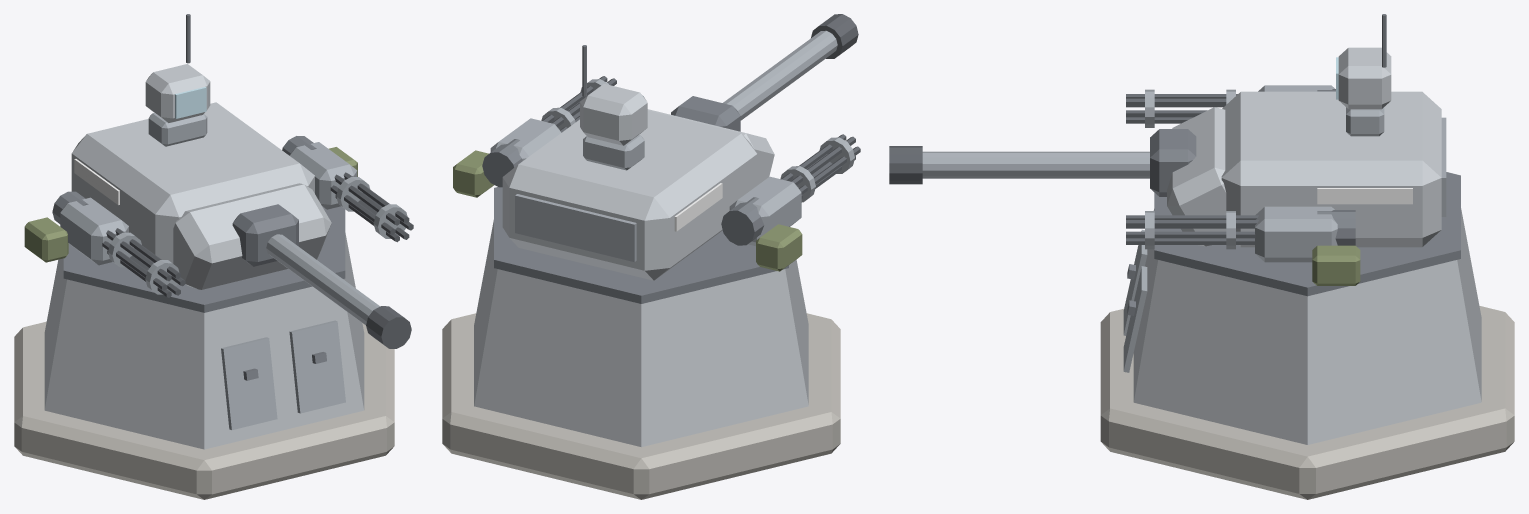
The model's file is turret_3.glb.
3 views of the same model, side by side, from view 1: azimuth 30°, elevation 25°; view 2: azimuth 150°, elevation 25°; view 3: azimuth 270°, elevation 25° (orthographic). The views are drawn at different scales.
Parts seen in each view (by area): view 1: main, turret; view 2: main, turret; view 3: main, turret.
Part boxes in pixels (bbox=[...]): main: bbox=[14, 206, 394, 499]; turret: bbox=[24, 14, 413, 348]; main: bbox=[442, 187, 840, 499]; turret: bbox=[453, 14, 860, 280]; main: bbox=[1100, 172, 1514, 499]; turret: bbox=[889, 14, 1446, 285].
Size of the model in its own units: 0.98 by 0.92 by 1.31.
